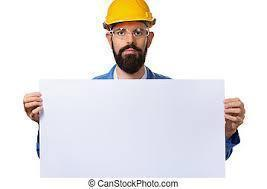helmet: (102, 0, 157, 26)
